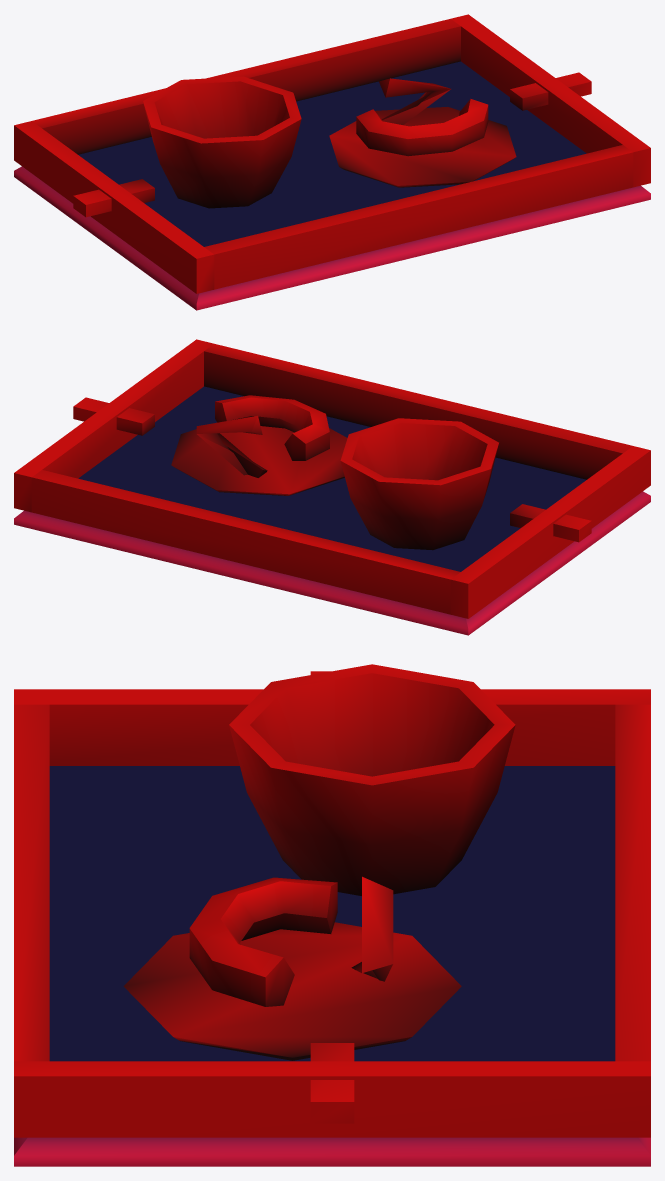
Rendered from CI_Cafe_ServingTray.glb.
3 renders of one model, top to bottom at view 1: azimuth 30°, elevation 25°; view 2: azimuth 150°, elevation 25°; view 3: azimuth 270°, elevation 25°, orthographic. The views are drawn at different scales.
Visible parts, largest first — view 1: CI_Cafe_ServingTray; view 2: CI_Cafe_ServingTray; view 3: CI_Cafe_ServingTray.
Boxes of the visible parts, x1,y1,x2,y2 form: CI_Cafe_ServingTray: (14,14,650,310); CI_Cafe_ServingTray: (14,339,650,635); CI_Cafe_ServingTray: (14,664,650,1166).
Bounding box in the file's own units: 0.512 × 0.091 × 0.32.
